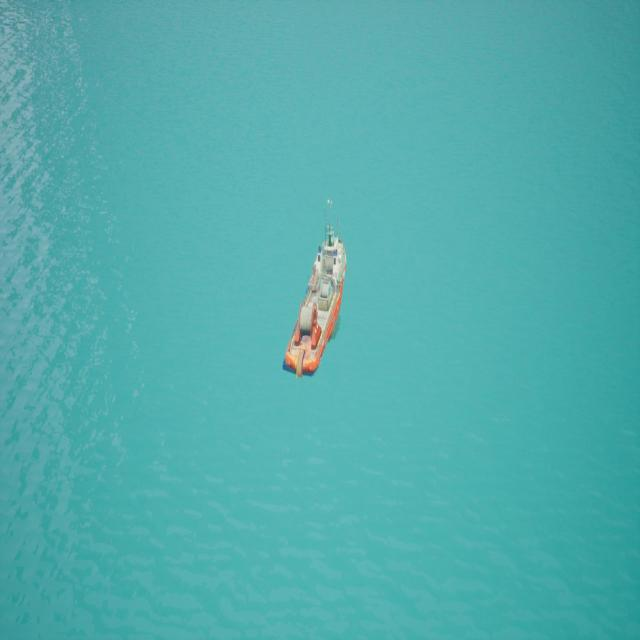tug boat: (271, 182, 355, 406)
